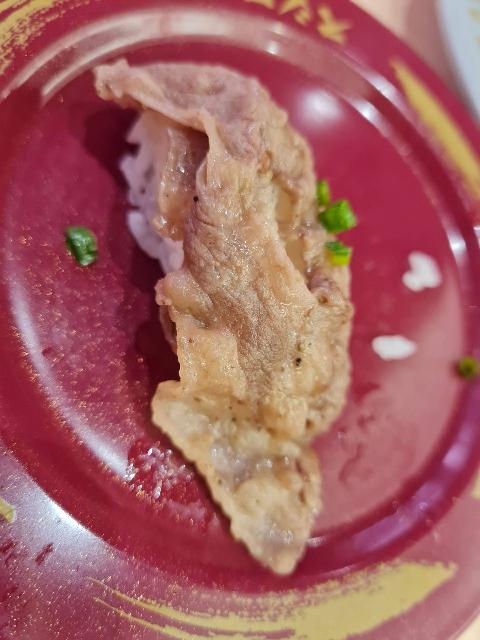janred: (0, 0, 468, 640)
janwhite: (427, 0, 480, 93)
